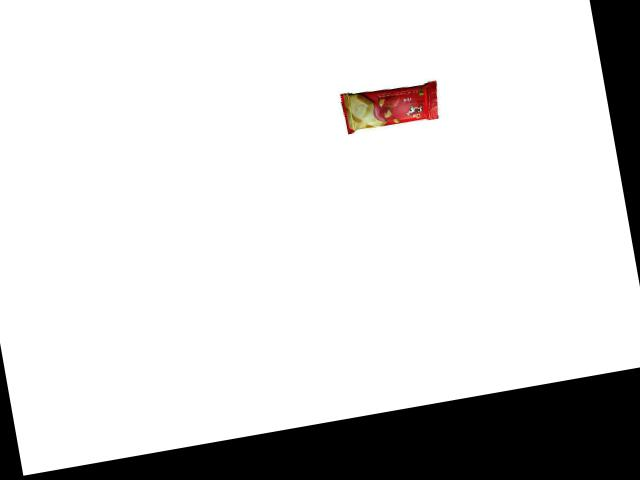chocolate: (338, 70, 449, 137)
